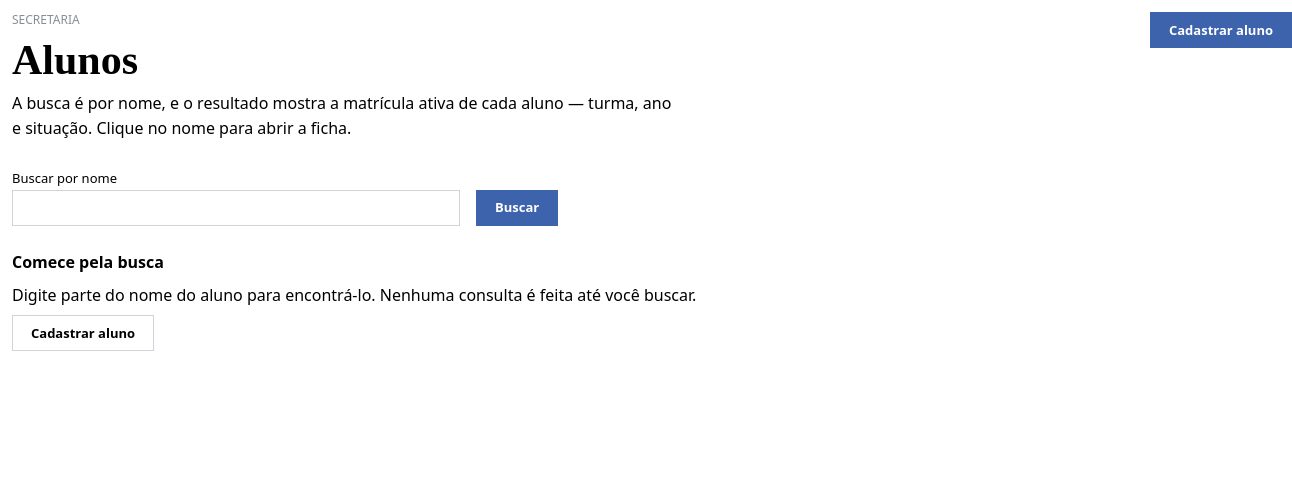
searching › typing and submitting puts the term in the URL as well as in the request, so a search can be bookmarked or sent to a colleague instead of described over the pho
The image size is (1292, 489).
Type "ana" into the field labelled "Buscar por nome" at (236, 208), box [12,190,460,226]
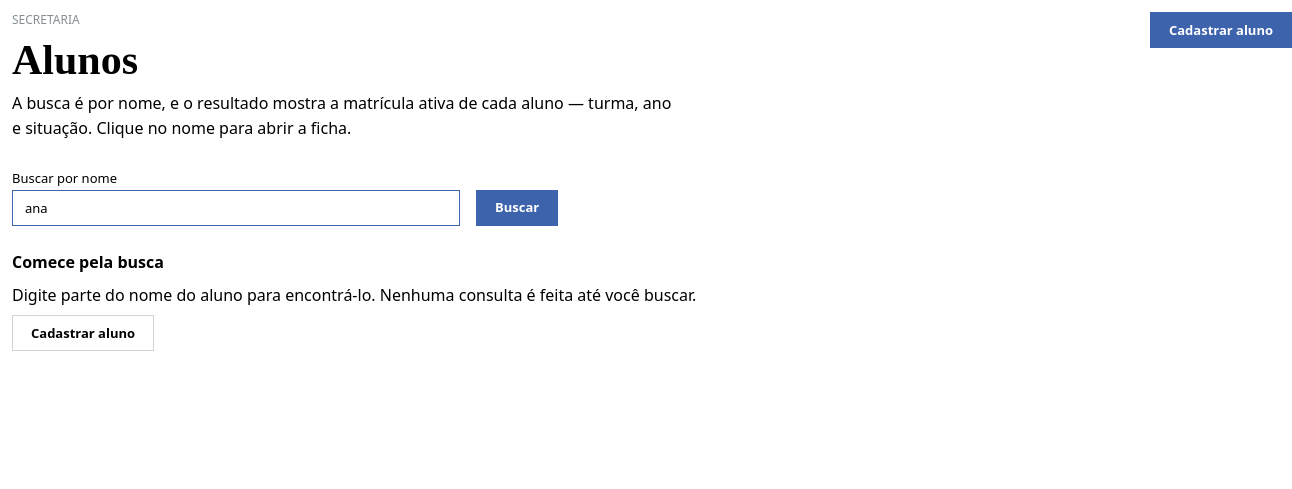
Click the button "Buscar" at (517, 208), box [476,190,558,226]
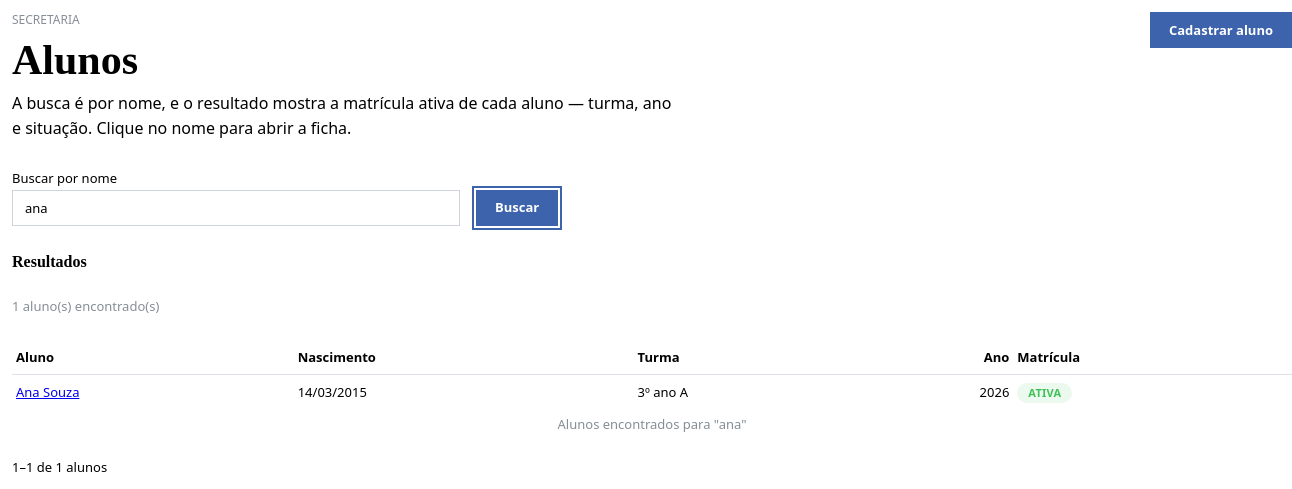
Now the link "Ana Souza" is shown, box [16,383,80,401]
